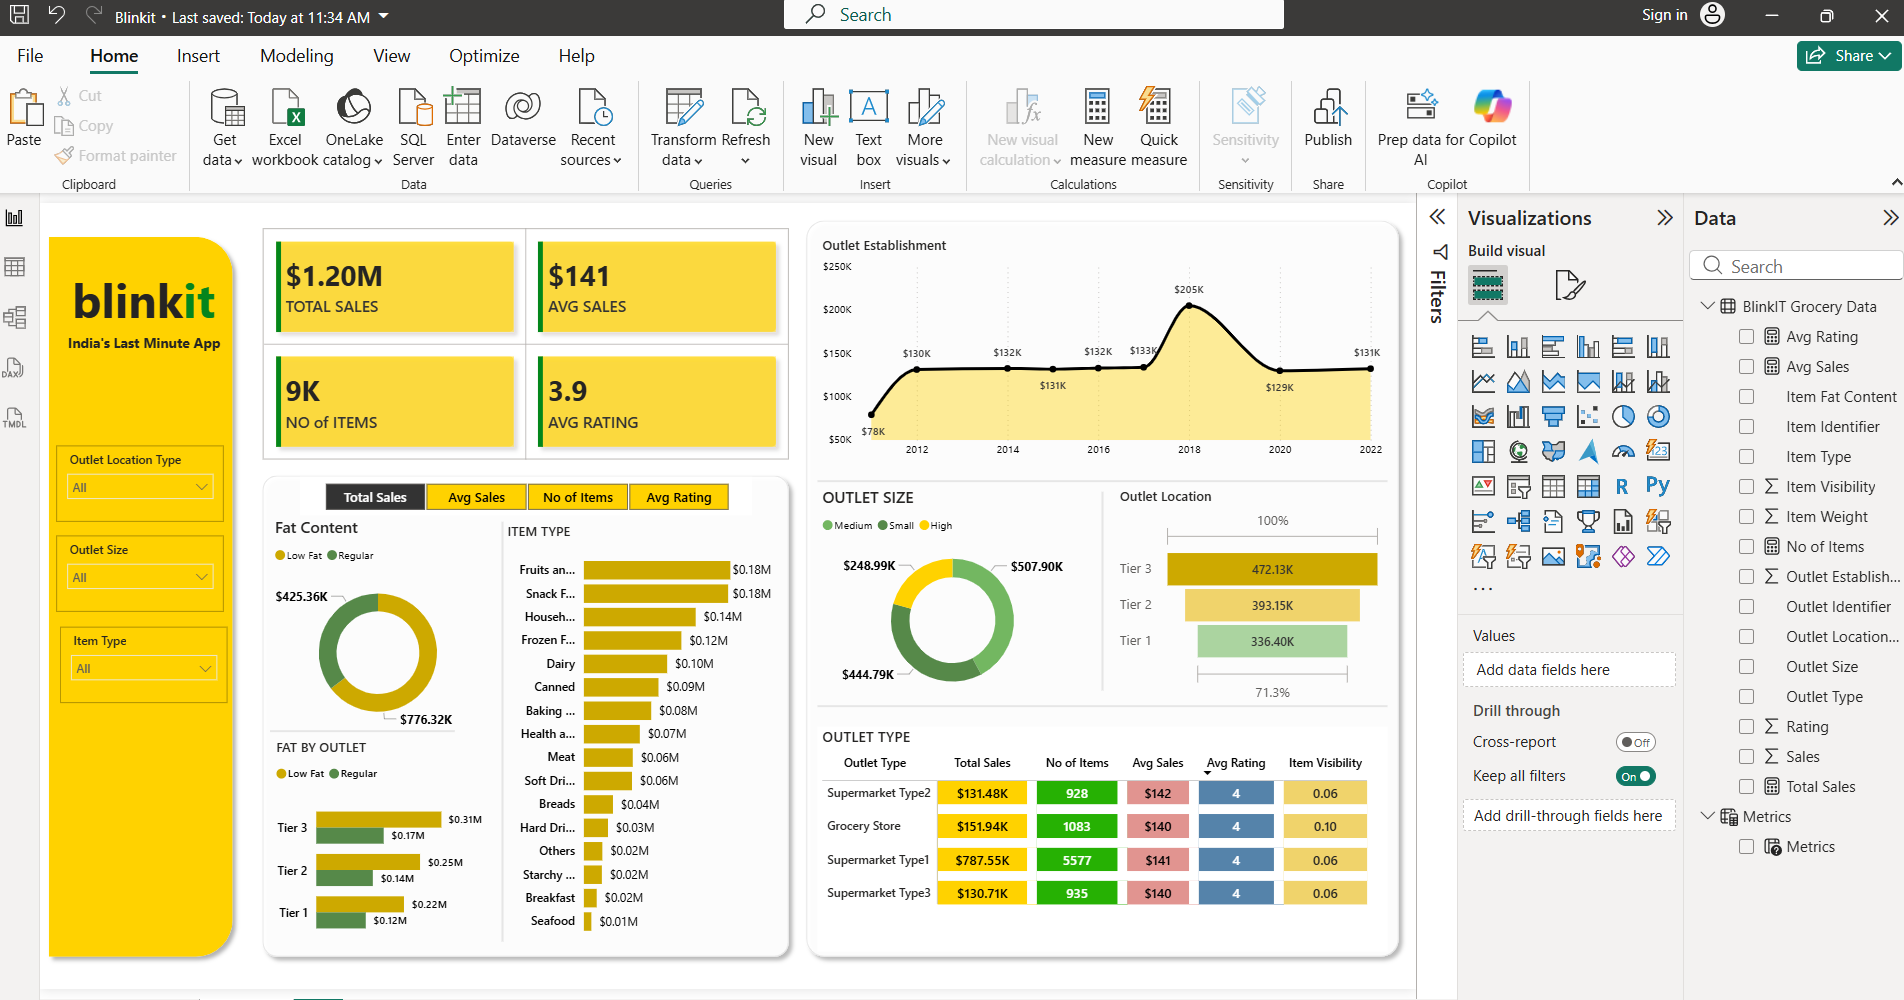

This screenshot's page, from the dashboard's own definition file:
{"tool":"powerbi","page":{"name":"Page 1","canvas":[1400,800],"ordinal":0},"visuals":[{"type":"shape","box":[0,25.5,205,750.4],"z":0},{"type":"textbox","box":[23.6,59.6,162.5,100.5],"z":1000},{"type":"textbox","box":[16.1,126.6,178.7,33.5],"z":2000},{"type":"cardVisual","fields":{"Data":["BlinkIT Grocery Data.Total Sales","BlinkIT Grocery Data.Avg Sales","BlinkIT Grocery Data.No of Items","BlinkIT Grocery Data.Avg Rating"]},"box":[209.8,8.9,569.8,269.6],"z":3000},{"type":"shape","box":[217.5,268.4,553.2,507.5],"z":4000},{"type":"donutChart","title":"Fat Content","fields":{"Y":["BlinkIT Grocery Data.Total Sales"],"Category":["BlinkIT Grocery Data.Item Fat Content"]},"box":[234,318,220,230.2],"z":5000},{"type":"slicer","fields":{"Values":["Metrics.Metrics"]},"box":[264.5,278.5,460.4,39.4],"z":6000},{"type":"clusteredBarChart","title":"FAT BY OUTLET","fields":{"Y":["BlinkIT Grocery Data.Total Sales"],"Category":["BlinkIT Grocery Data.Outlet Location Type"],"Series":["BlinkIT Grocery Data.Item Fat Content"]},"box":[235.3,544.3,220,217.5],"z":7000},{"type":"shape","box":[234,496,188.2,82.7],"z":8000},{"type":"shape","box":[433.7,324.3,73.8,427.3],"z":9000},{"type":"barChart","title":"ITEM TYPE","fields":{"Y":["BlinkIT Grocery Data.Total Sales"],"Category":["BlinkIT Grocery Data.Item Type"]},"box":[470.6,324.3,278.5,431.1],"z":10000},{"type":"shape","box":[770.7,8.9,620.6,766.9],"z":11000},{"type":"lineChart","title":"Outlet Establishment ","fields":{"Category":["BlinkIT Grocery Data.Outlet Establishment Year"],"Y":["BlinkIT Grocery Data.Total Sales"]},"box":[791.1,33.1,579.9,235.3],"z":12000},{"type":"shape","box":[791.1,241.6,579.9,82.7],"z":13000},{"type":"donutChart","title":"OUTLET SIZE","fields":{"Y":["BlinkIT Grocery Data.Total Sales"],"Category":["BlinkIT Grocery Data.Outlet Size"]},"box":[791.1,287.4,275,225.1],"z":14000},{"type":"shape","box":[1044.2,293.8,73.8,202.2],"z":15000},{"type":"funnel","title":" Outlet Location ","fields":{"Y":["Sum(BlinkIT Grocery Data.Sales)"],"Category":["BlinkIT Grocery Data.Outlet Location Type"]},"box":[1093.8,288.7,277.3,223.8],"z":16000},{"type":"shape","box":[791.1,470.6,579.9,82.7],"z":17000},{"type":"pivotTable","title":"OUTLET TYPE","fields":{"Rows":["BlinkIT Grocery Data.Outlet Type"],"Values":["BlinkIT Grocery Data.Total Sales","BlinkIT Grocery Data.No of Items","BlinkIT Grocery Data.Avg Sales","BlinkIT Grocery Data.Avg Rating","Avg(BlinkIT Grocery Data.Item Visibility)"]},"box":[791.1,532.9,579.9,228.9],"z":18000},{"type":"slicer","fields":{"Values":["BlinkIT Grocery Data.Outlet Location Type"]},"box":[16.5,246.7,170.4,77.6],"z":19000},{"type":"slicer","fields":{"Values":["BlinkIT Grocery Data.Outlet Size"]},"box":[16.5,338.3,170.4,77.6],"z":20000},{"type":"slicer","fields":{"Values":["BlinkIT Grocery Data.Item Type"]},"box":[20.3,431.1,170.4,77.6],"z":21000}]}

Visuals, with their boxes on the page's 1400x800 design canvas (x1, y1, x2, y2). These are canvas units, not pixel positions in the 1904x1000 screenshot, which may show the page scaled, cropped or inside an application window:
shape: l=0, t=26, r=205, b=776
textbox: l=24, t=60, r=186, b=160
textbox: l=16, t=127, r=195, b=160
cardVisual - BlinkIT Grocery Data.Total Sales x BlinkIT Grocery Data.Avg Sales: l=210, t=9, r=780, b=278
shape: l=218, t=268, r=771, b=776
"Fat Content" donutChart: l=234, t=318, r=454, b=548
slicer - Metrics.Metrics: l=264, t=278, r=725, b=318
"FAT BY OUTLET" clusteredBarChart: l=235, t=544, r=455, b=762
shape: l=234, t=496, r=422, b=579
shape: l=434, t=324, r=508, b=752
"ITEM TYPE" barChart: l=471, t=324, r=749, b=755
shape: l=771, t=9, r=1391, b=776
"Outlet Establishment " lineChart: l=791, t=33, r=1371, b=268
shape: l=791, t=242, r=1371, b=324
"OUTLET SIZE" donutChart: l=791, t=287, r=1066, b=512
shape: l=1044, t=294, r=1118, b=496
" Outlet Location " funnel: l=1094, t=289, r=1371, b=512
shape: l=791, t=471, r=1371, b=553
"OUTLET TYPE" pivotTable: l=791, t=533, r=1371, b=762
slicer - BlinkIT Grocery Data.Outlet Location Type: l=16, t=247, r=187, b=324
slicer - BlinkIT Grocery Data.Outlet Size: l=16, t=338, r=187, b=416
slicer - BlinkIT Grocery Data.Item Type: l=20, t=431, r=191, b=509
